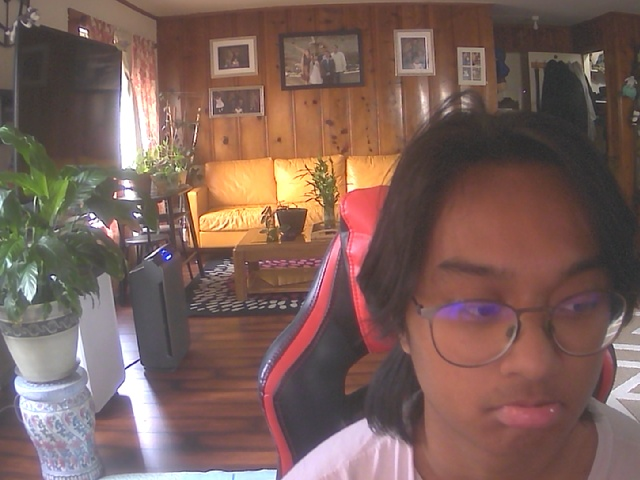sad: (392, 118, 637, 463)
